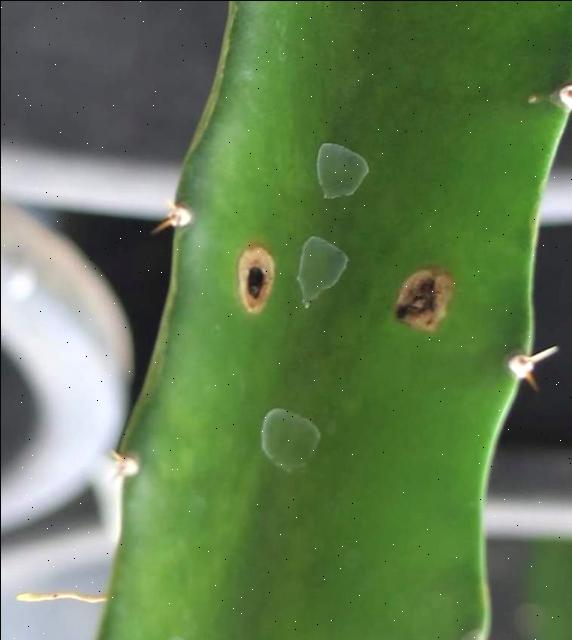stemcanker: (384, 258, 460, 337), (228, 242, 280, 318)
